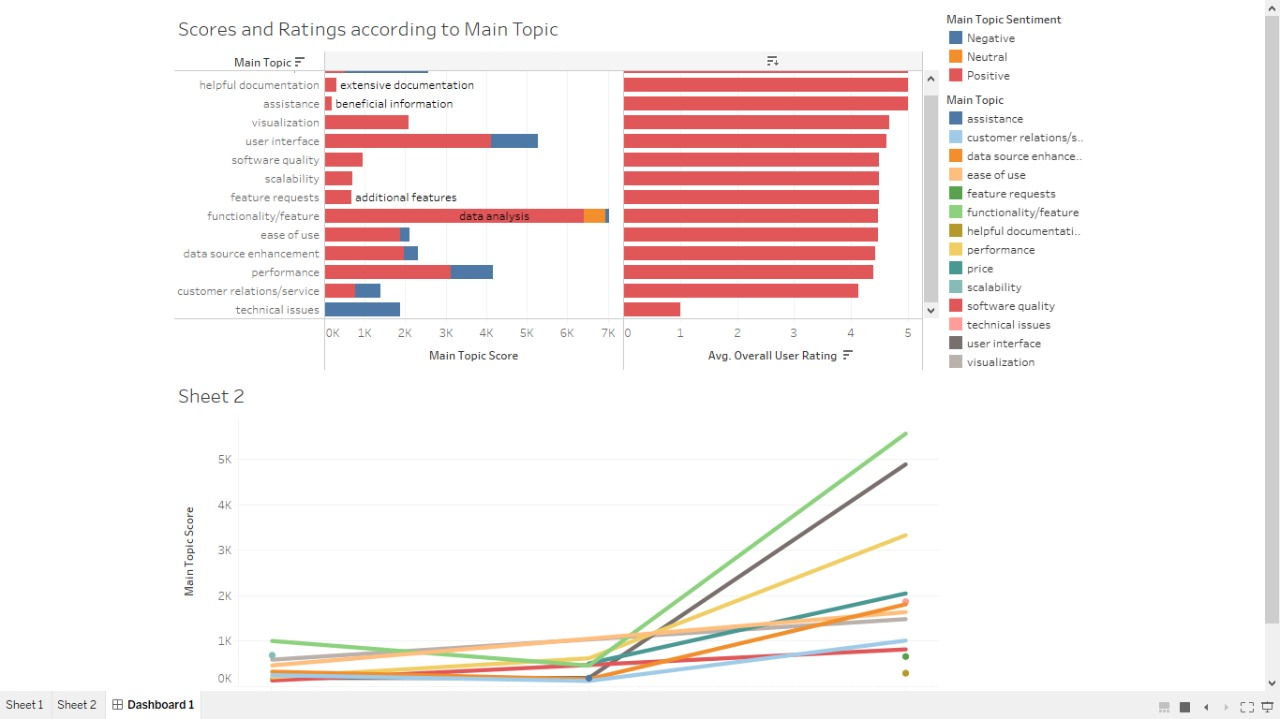

The dashboard page shown, as its layout file describes it:
{"tool":"tableau","page":{"name":"Dashboard 1","canvas":[1000,800],"ordinal":0},"visuals":[{"type":"worksheet","title":"Sheet 1","mark":"Automatic","rows":["Main Topic"],"cols":["Main Topic Score","Overall User Rating"],"box":[8,8,824,392]},{"type":"legend","title":"Sheet 1","param":"[federated.0qd2mnu0nsrz2i136eje21dzszd1].[none:Main Topic Sentiment:nk]","box":[832,8,160,86]},{"type":"legend","title":"Sheet 2","param":"[federated.0qd2mnu0nsrz2i136eje21dzszd1].[none:Main Topic:nk]","box":[832,94,160,306]},{"type":"worksheet","title":"Sheet 2","mark":"Automatic","rows":["Main Topic Score"],"cols":["date"],"box":[8,400,824,392]}]}

Visuals, with their boxes on the page's 1000x800 design canvas (x1, y1, x2, y2). These are canvas units, not pixel positions in the 1280x719 screenshot, which may show the page scaled, cropped or inside an application window:
"Sheet 1" worksheet: detection(8, 8, 832, 400)
"Sheet 1" legend: detection(832, 8, 992, 94)
"Sheet 2" legend: detection(832, 94, 992, 400)
"Sheet 2" worksheet: detection(8, 400, 832, 792)
